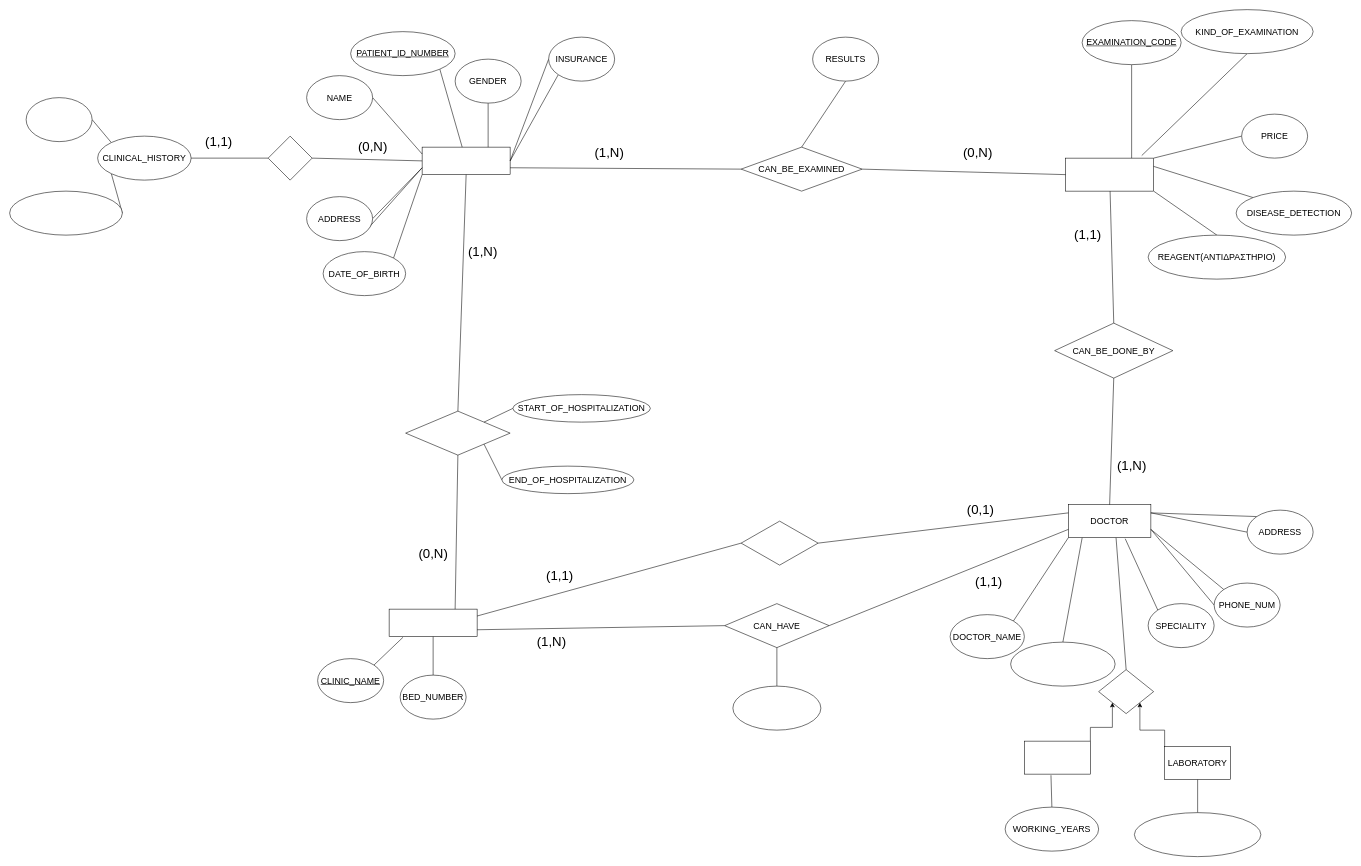
Image size: 1361x866. Some labels were removed from this diagram. Here are the shapes that lost their labels. From the top down, the centre of each, then its label:
At (59,119): "DISEASE".
At (290,158): "HAS".
At (466,161): "PATIENT".
At (1109,174): "ΕΧΑΜΙΝΑΤΙΟΝ".
At (65,213): "DATE_OF_DIAGNOSIS".
At (457,433): "IS_HOSPITALIZED".
At (779,543): "MANAGED_BY".
At (433,623): "Clinic".
At (1062,664): "DOCTOR_ID_NUMBER".
At (776,708): "START_DATE".
At (1126,691): "IsA".
At (1057,757): "CLINICAL".
At (1197,834): "DISEASE_OCCUPATION".
